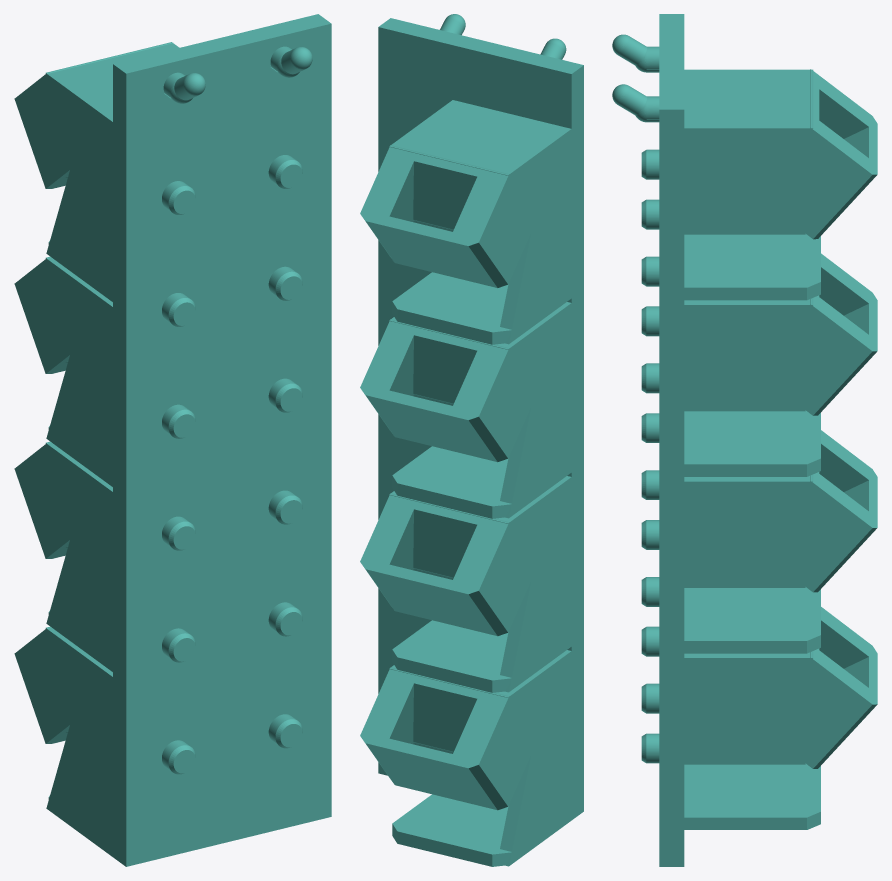
File: part-solder-modules-tweezers__v7__rear.glb
The picture shows the model from 3 angles, left to right: view 1: azimuth 30°, elevation 25°; view 2: azimuth 150°, elevation 25°; view 3: azimuth 270°, elevation 25°; orthographic projection. The views are drawn at different scales.
Parts seen in each view (by area): view 1: Actual holder mesh; view 2: Actual holder mesh; view 3: Actual holder mesh.
Part boxes in pixels (x1,y1,x2,y2): Actual holder mesh: (14,14,331,866); Actual holder mesh: (360,14,583,866); Actual holder mesh: (612,14,877,866).
Size of the model in its own units: 0.0488 by 0.1804 by 0.0572.
